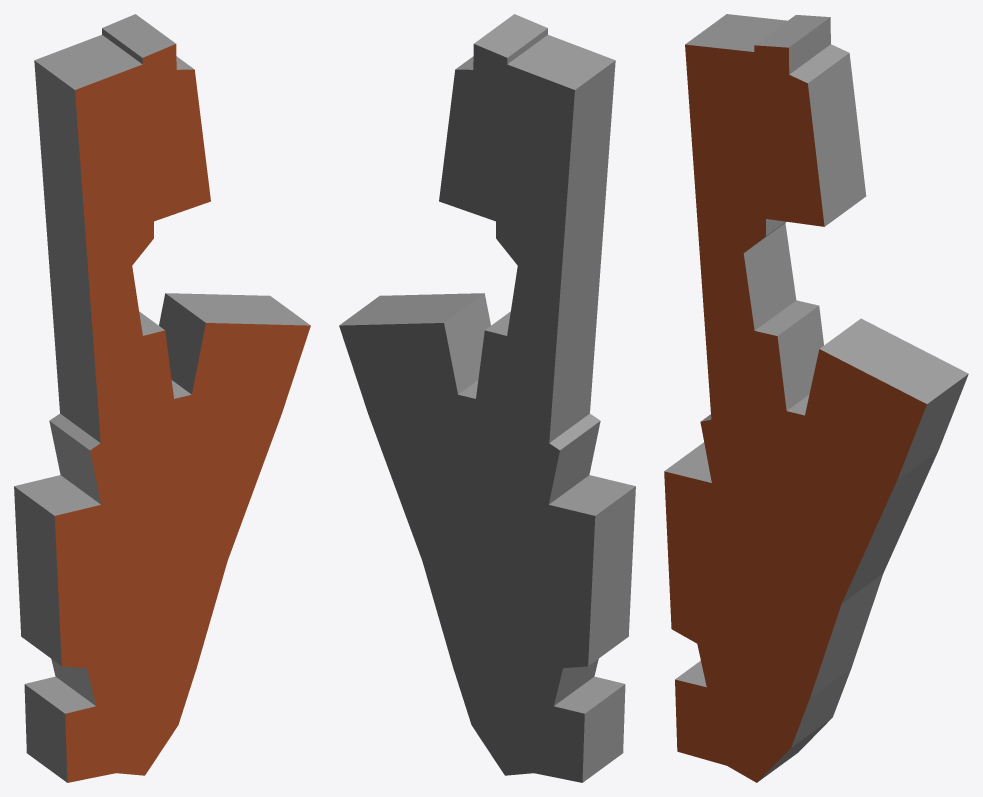
The model's file is construction_6597_assumed_A_Casa_h6m.obj.
The picture shows the model from 3 angles, left to right: view 1: azimuth 30°, elevation 25°; view 2: azimuth 150°, elevation 25°; view 3: azimuth 330°, elevation 25°; orthographic projection. The views are drawn at different scales.
Parts seen in each view (by area): view 1: construction_6597_assumed_A_Casa; view 2: construction_6597_assumed_A_Casa; view 3: construction_6597_assumed_A_Casa.
Part boxes in pixels (bbox=[...]): construction_6597_assumed_A_Casa: bbox=[14, 14, 310, 782]; construction_6597_assumed_A_Casa: bbox=[339, 14, 635, 782]; construction_6597_assumed_A_Casa: bbox=[664, 14, 968, 782].
Bounding box in the file's own units: 21.83 × 58.94 × 6.
